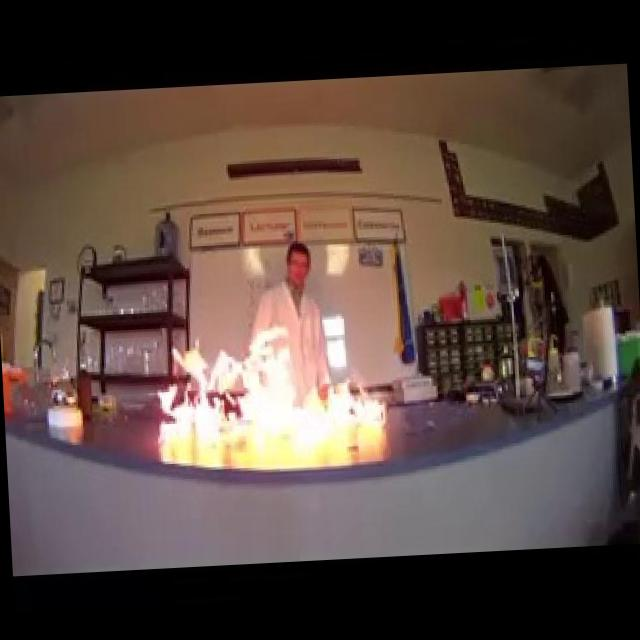Fire: (150, 314, 392, 448)
